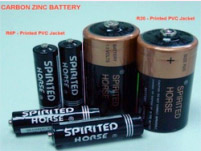Battery: (135, 25, 200, 135), (81, 18, 141, 110), (46, 113, 147, 150), (8, 105, 105, 137), (31, 42, 61, 109), (57, 37, 84, 106)
